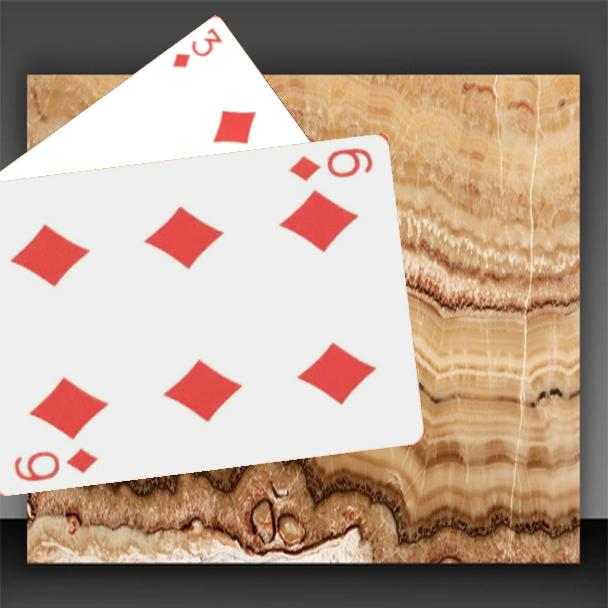d03: (169, 24, 225, 71)
d06: (286, 143, 376, 184), (10, 444, 102, 484)
